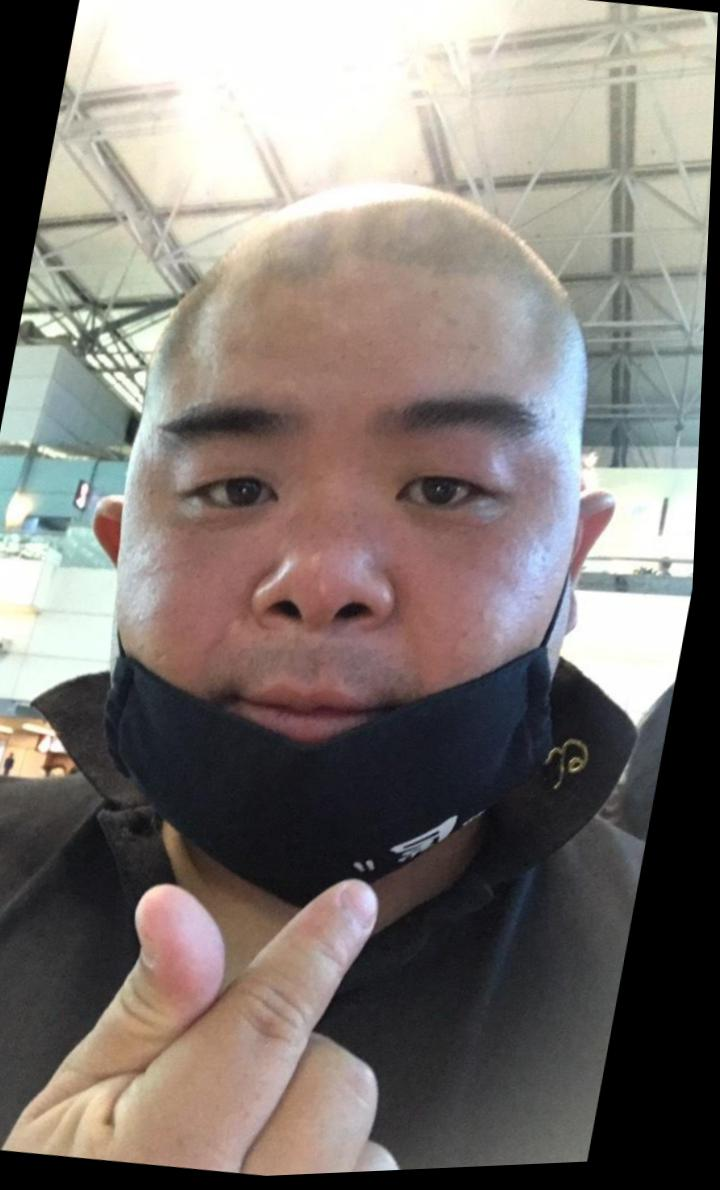WRONG: (80, 324, 589, 908)
